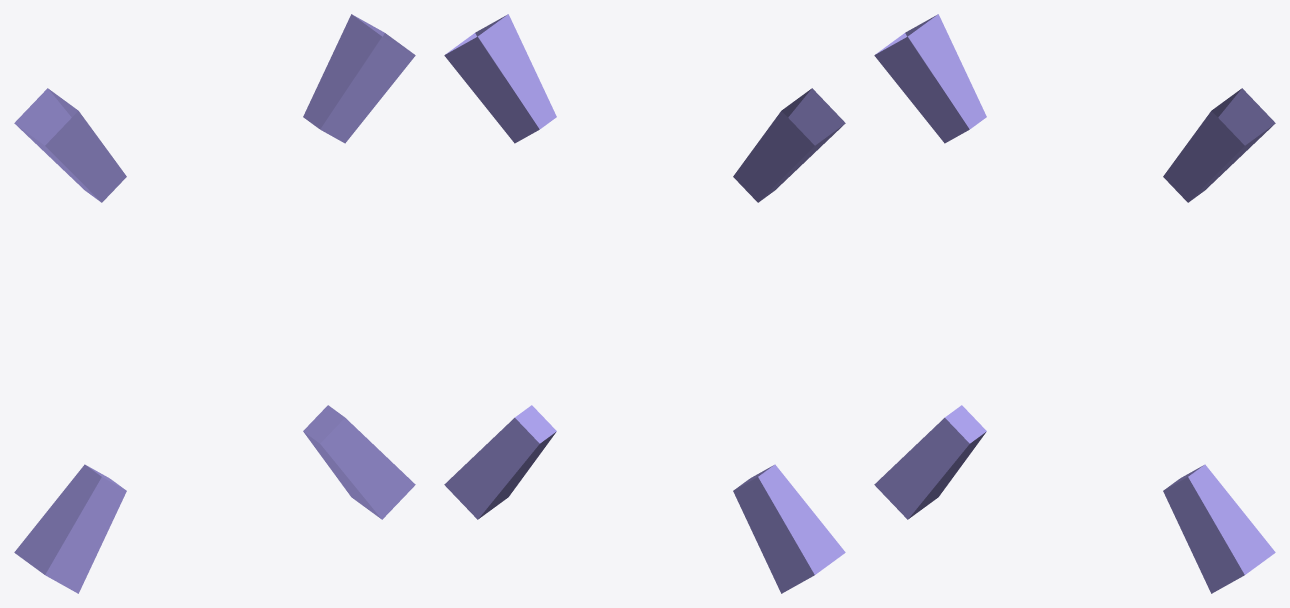
The model's file is Perforated_wall_ledges_txt.dae.
The picture shows the model from 3 angles, left to right: view 1: azimuth 30°, elevation 25°; view 2: azimuth 150°, elevation 25°; view 3: azimuth 330°, elevation 25°; orthographic projection.
Visible parts, largest first — view 1: Object003, Object005, Object004, Object006; view 2: Object003, Object005, Object004, Object006; view 3: Object004, Object006, Object003, Object005.
Boxes of the visible parts, x1,y1,x2,y2 form: Object003: (303,14,415,143); Object005: (14,464,126,593); Object004: (14,88,126,202); Object006: (303,405,415,519); Object003: (444,14,556,143); Object005: (733,464,845,593); Object004: (733,88,845,202); Object006: (444,405,556,519); Object004: (874,14,986,143); Object006: (1163,464,1275,593); Object003: (1163,88,1275,202); Object005: (874,405,986,519).
Size of the model in its own units: 6.66 by 0.9598 by 8.29.
